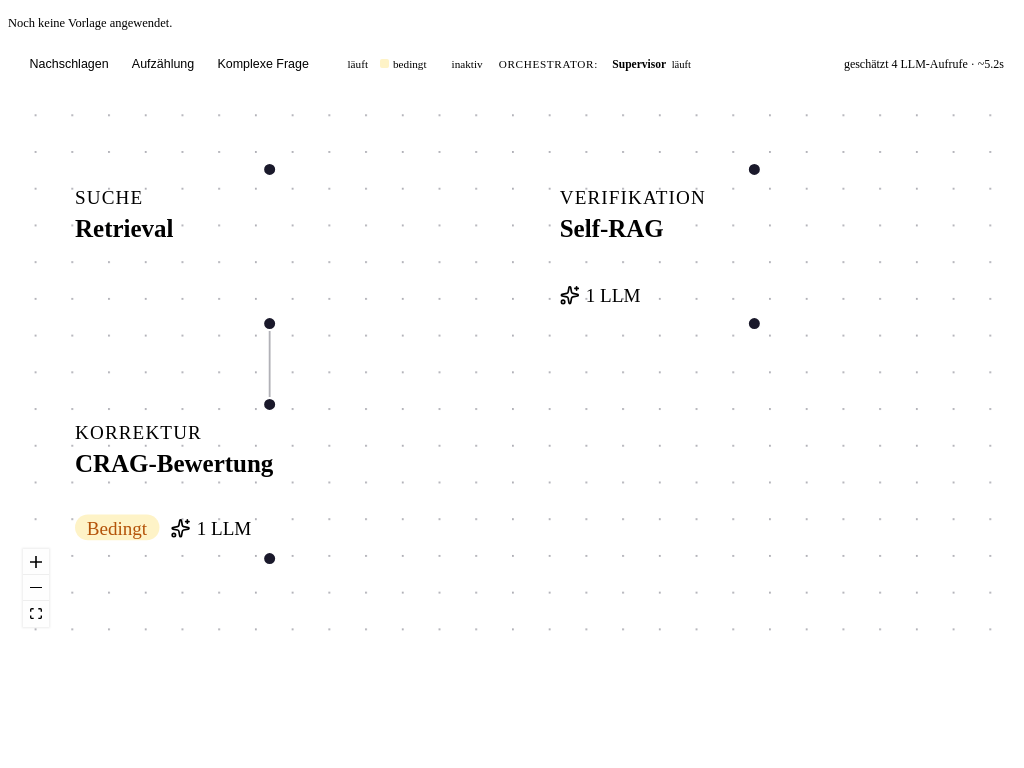
Test: WorkflowCanvas › save / reset / refetch › clears the draft and refetches the projection after a successful save
The image size is (1024, 768).
Click the element with test id "wf-node-crag_grade" at [176, 481], box [75,397,277,566]
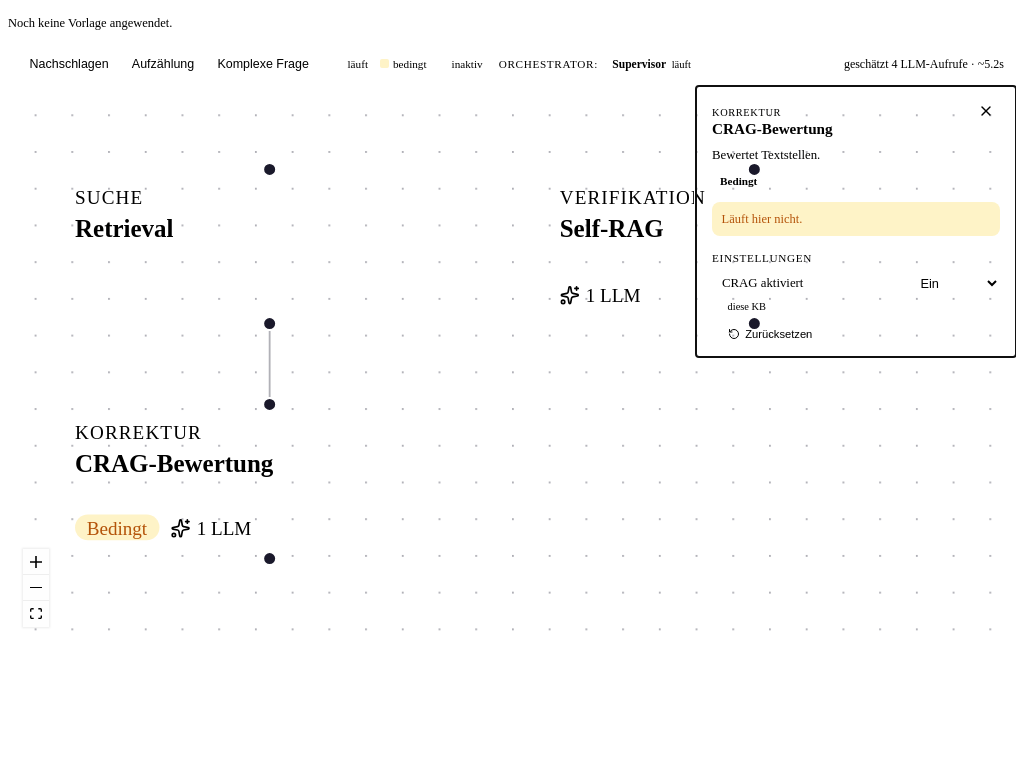
Select "Aus" in the dropdown labelled "CRAG aktiviert" at [955, 283], box [910,271,1000,296]
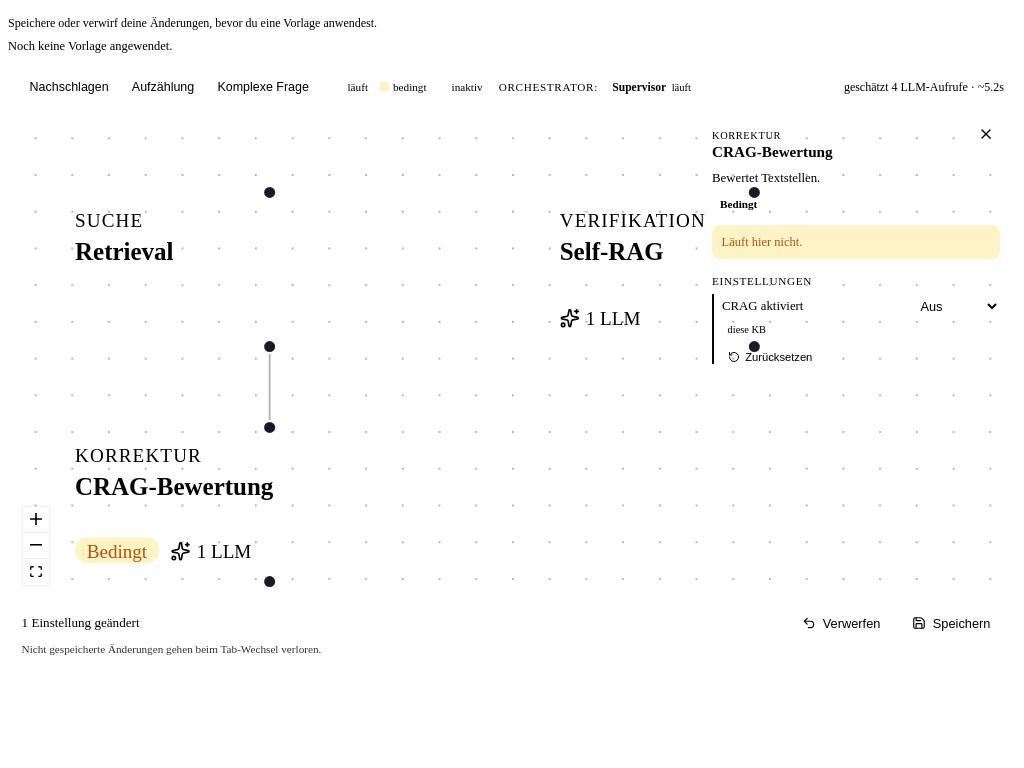
Click the button "Speichern" at [951, 623], box [900,609,1002,637]
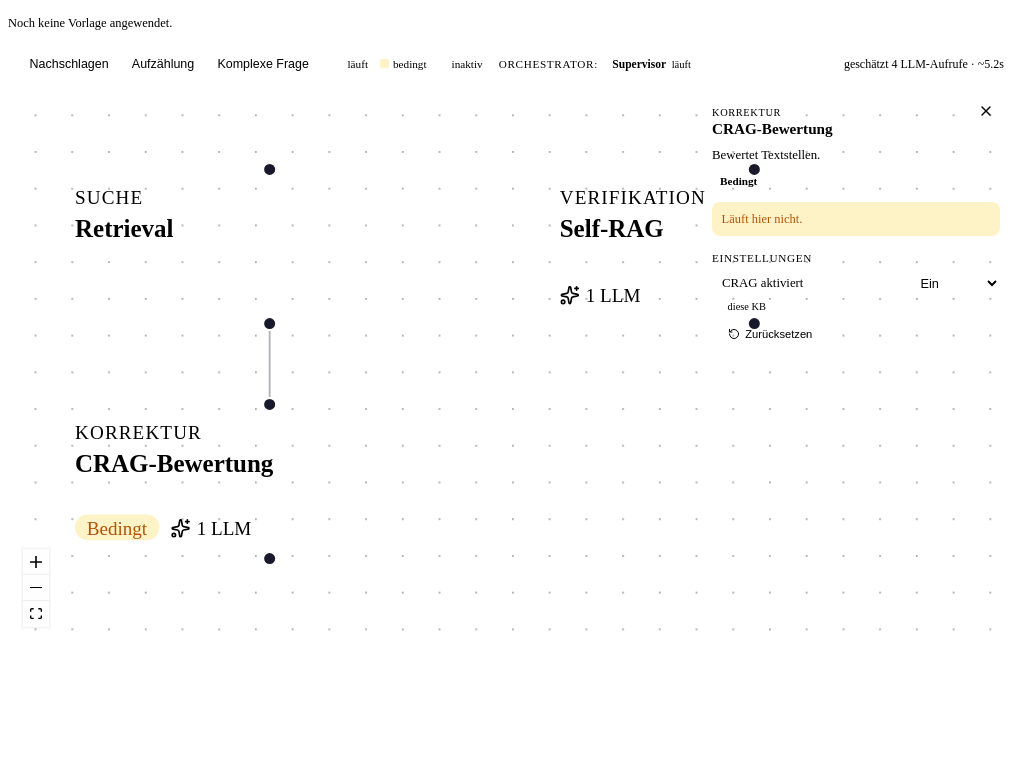
Result: the text "geändert" is gone
